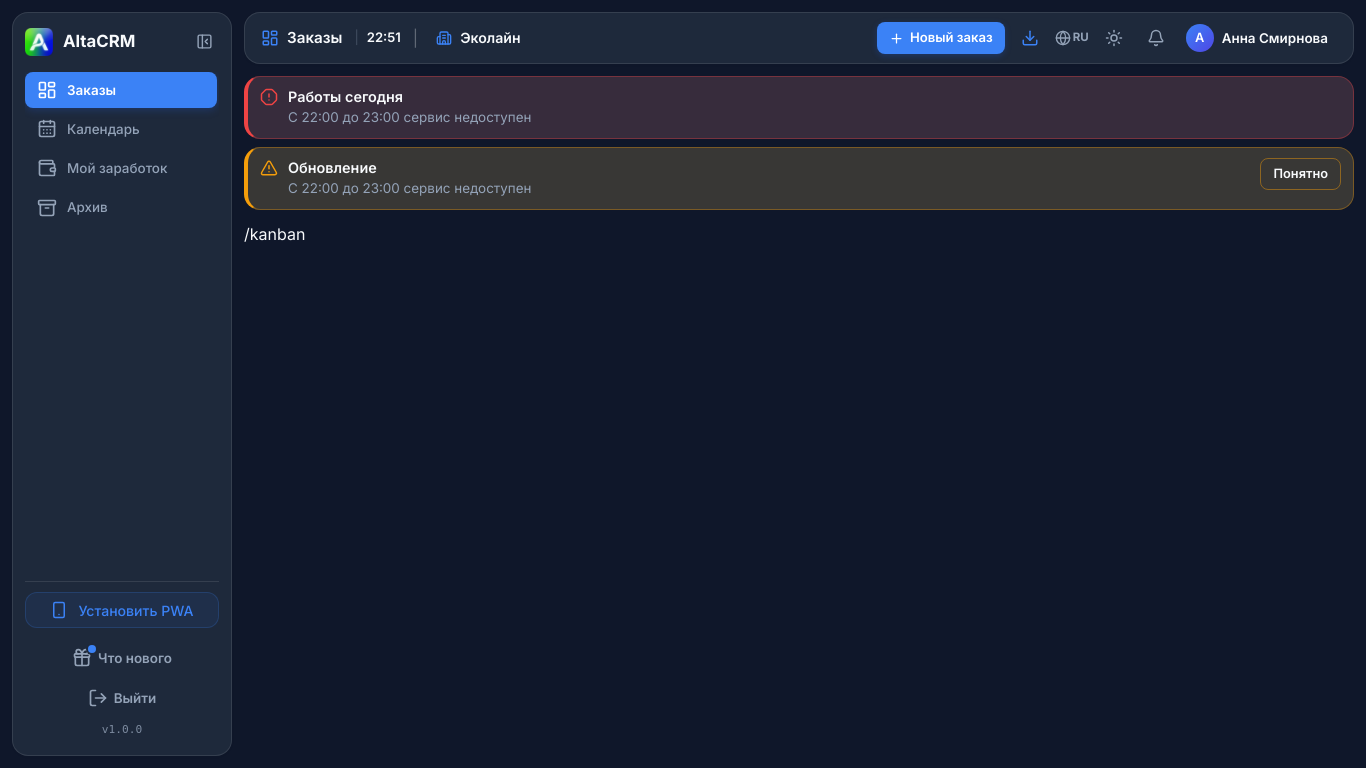
Scenario: DashboardLayout › shows platform announcements under the top bar and hides one for good
This screenshot has width=1366, height=768.
Click the button with aria-label "Скрыть объявление": click(1301, 174) [1260,158,1341,190]
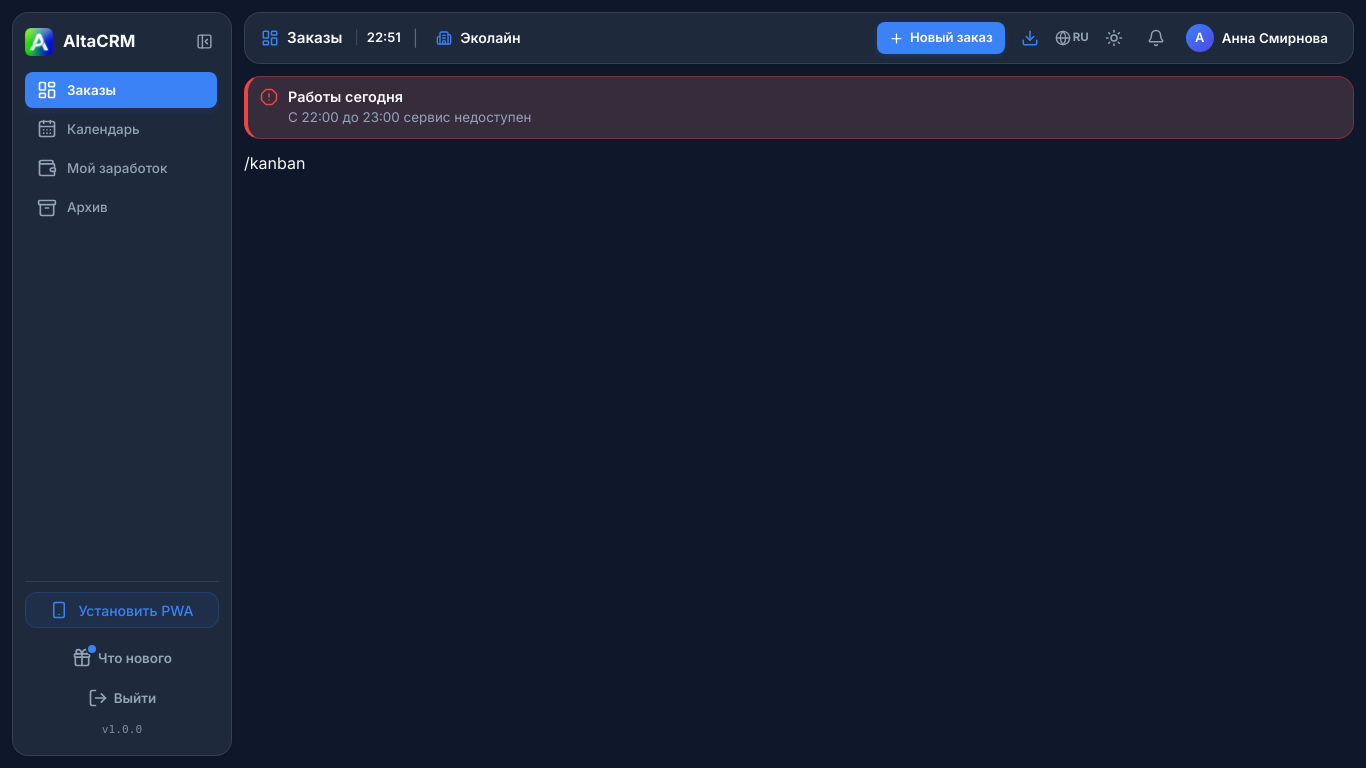
Expected: the text "Работы сегодня" is shown, [288,88,403,105]
Result: the text "Обновление" is gone
